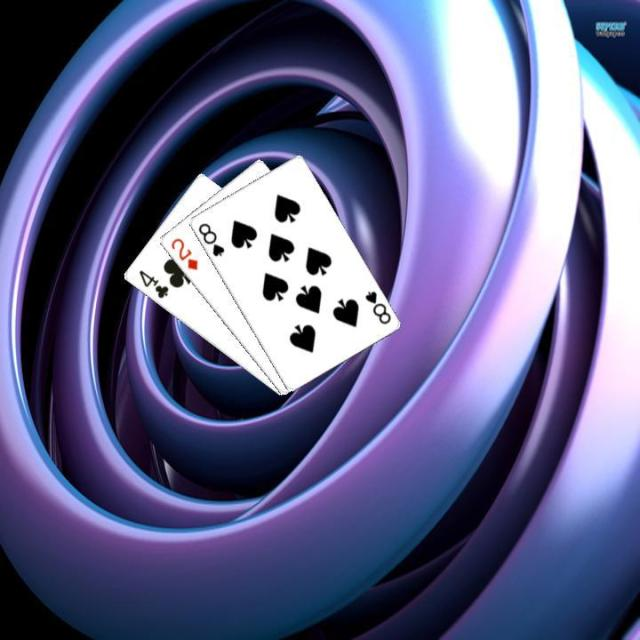2D: (166, 234, 199, 272)
4C: (134, 266, 171, 300)
8S: (360, 287, 393, 326), (194, 218, 226, 258)
